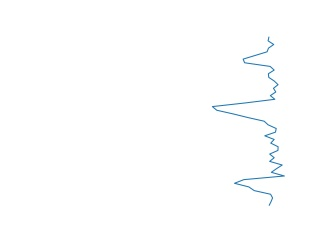underwaterNaturalLevee: (209, 37, 287, 207)
